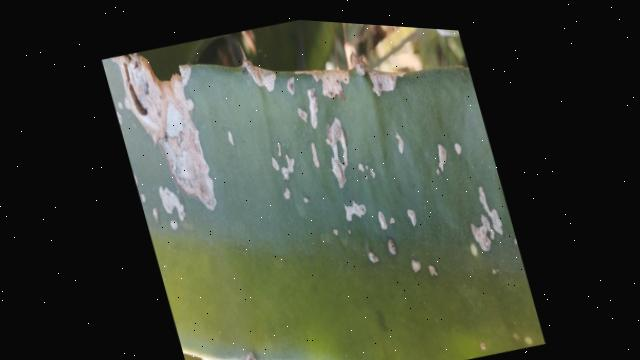stemcanker: (115, 26, 518, 358)
